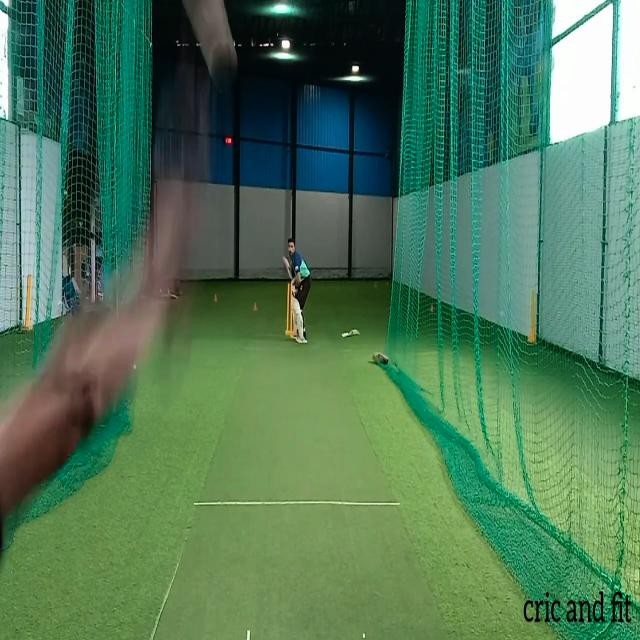batsman: (281, 237, 312, 346)
